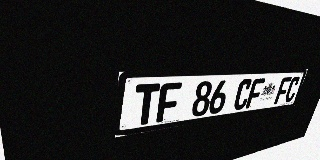6: (207, 80, 230, 115)
8: (190, 81, 214, 117)
C: (232, 79, 253, 111), (283, 76, 301, 103)
F: (156, 82, 182, 123), (245, 78, 265, 109), (274, 77, 292, 104)
T: (133, 83, 160, 126)
